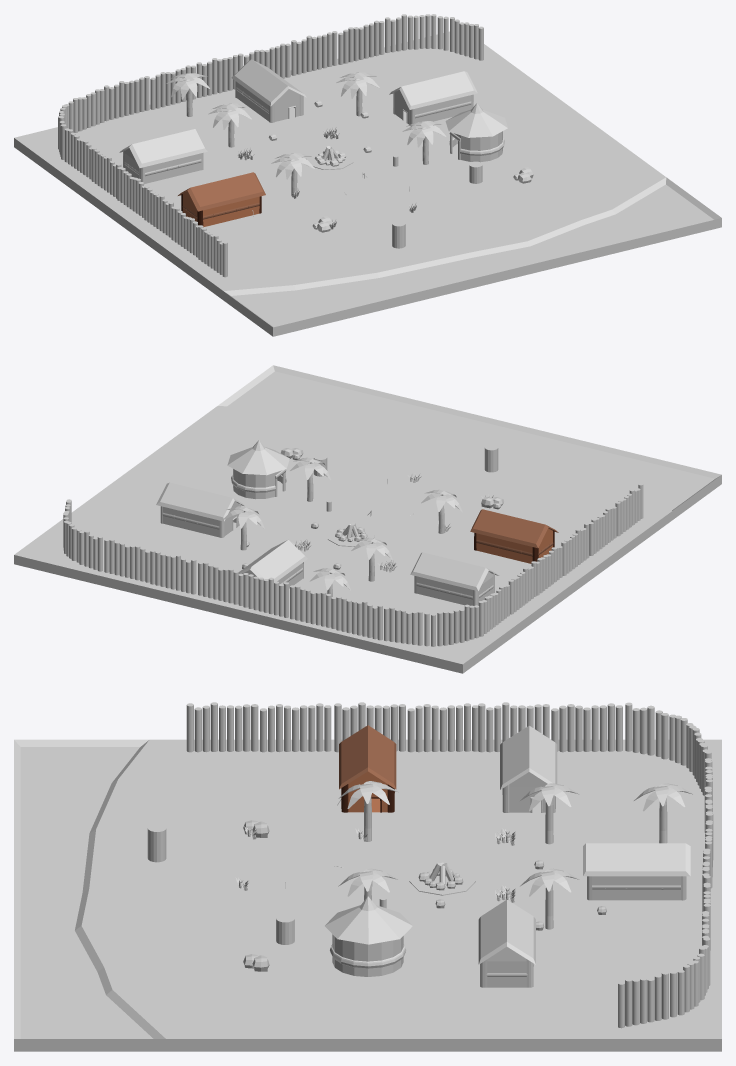
Rendered from prefrabs.fbx.
The picture shows the model from 3 angles, top to bottom: view 1: azimuth 30°, elevation 25°; view 2: azimuth 150°, elevation 25°; view 3: azimuth 270°, elevation 25°; orthographic projection. The views are drawn at different scales.
Visible parts, largest first — view 1: Plano_Suelo, paredes.001, MurosCurvos.001, Muros.004, Muros.005, Muros.003, Muros.002, Muros, Muros.001, techo, MurosCurvos, Cylinder.004 (+8 smaller); view 2: Plano_Suelo, paredes.001, MurosCurvos, Muros.004, Muros.005, Muros.003, Muros.002, Muros, Muros.001, techo, MurosCurvos.001, Cylinder.004 (+7 smaller); view 3: Plano_Suelo, paredes.001, Muros.002, Muros.001, Muros, MurosCurvos.001, MurosCurvos, techo, Cylinder.004, Cylinder.003, Cylinder.001, palmera.004 (+9 smaller).
Part boxes in pixels (<box>): Plano_Suelo: <box>14,31,721,336</box>; paredes.001: <box>119,59,477,184</box>; MurosCurvos.001: <box>385,14,483,60</box>; Muros.004: <box>291,20,384,75</box>; Muros.005: <box>104,65,195,121</box>; Muros.003: <box>196,43,290,97</box>; Muros.002: <box>171,206,227,277</box>; Muros: <box>117,167,173,237</box>; Muros.001: <box>64,128,121,198</box>; techo: <box>178,172,265,211</box>; MurosCurvos: <box>58,89,104,159</box>; Cylinder.004: <box>445,103,507,137</box>; Plano_Suelo: <box>14,365,721,673</box>; paredes.001: <box>156,482,498,605</box>; MurosCurvos: <box>384,601,483,646</box>; Muros.004: <box>104,538,196,594</box>; Muros.005: <box>290,585,382,640</box>; Muros.003: <box>198,561,288,617</box>; Muros.002: <box>589,483,643,555</box>; Muros: <box>536,522,589,595</box>; Muros.001: <box>482,561,536,633</box>; techo: <box>470,509,558,548</box>; MurosCurvos.001: <box>63,499,102,571</box>; Cylinder.004: <box>227,440,289,475</box>; Plano_Suelo: <box>14,739,721,1051</box>; paredes.001: <box>478,725,690,987</box>; Muros.002: <box>186,702,331,752</box>; Muros.001: <box>478,702,622,752</box>; Muros: <box>334,702,478,752</box>; MurosCurvos.001: <box>618,937,710,1028</box>; MurosCurvos: <box>625,702,709,795</box>; techo: <box>339,725,396,789</box>; Cylinder.004: <box>325,896,412,944</box>; Cylinder.003: <box>330,934,406,976</box>; Cylinder.001: <box>409,862,475,895</box>; palmera.004: <box>520,783,579,844</box>.
Bounding box in the file's own units: 10000 × 1230 × 10000.
